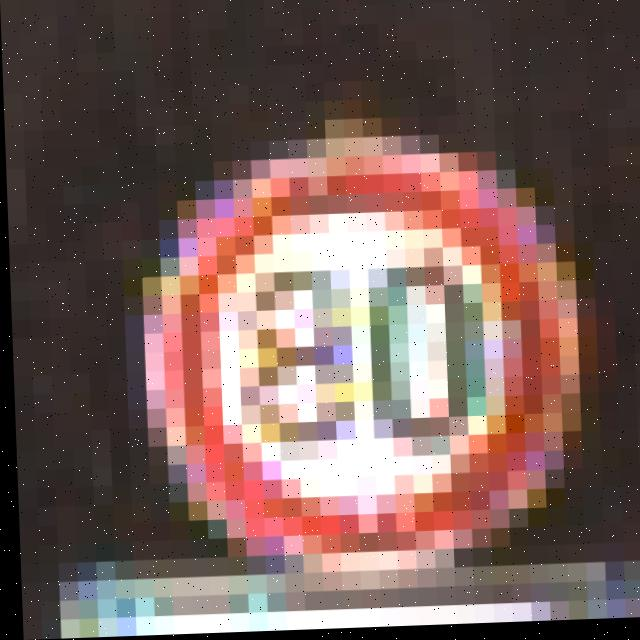speed_limit_80: (107, 141, 582, 554)
